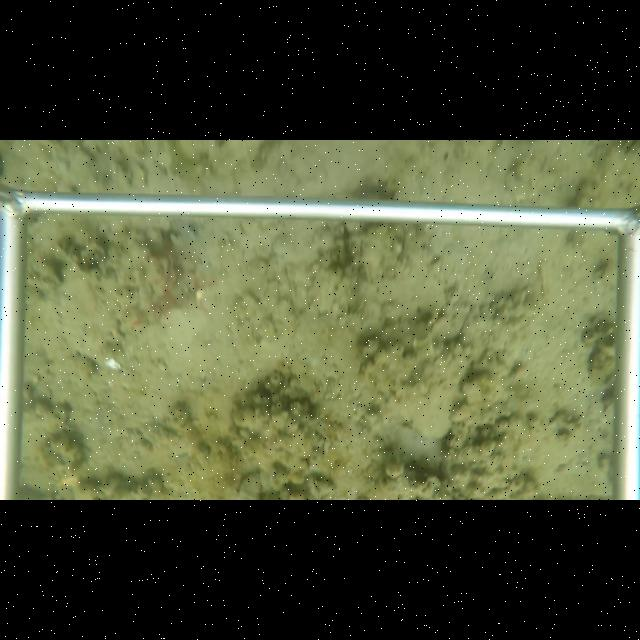Oyster-Closed: (441, 418, 553, 500)
